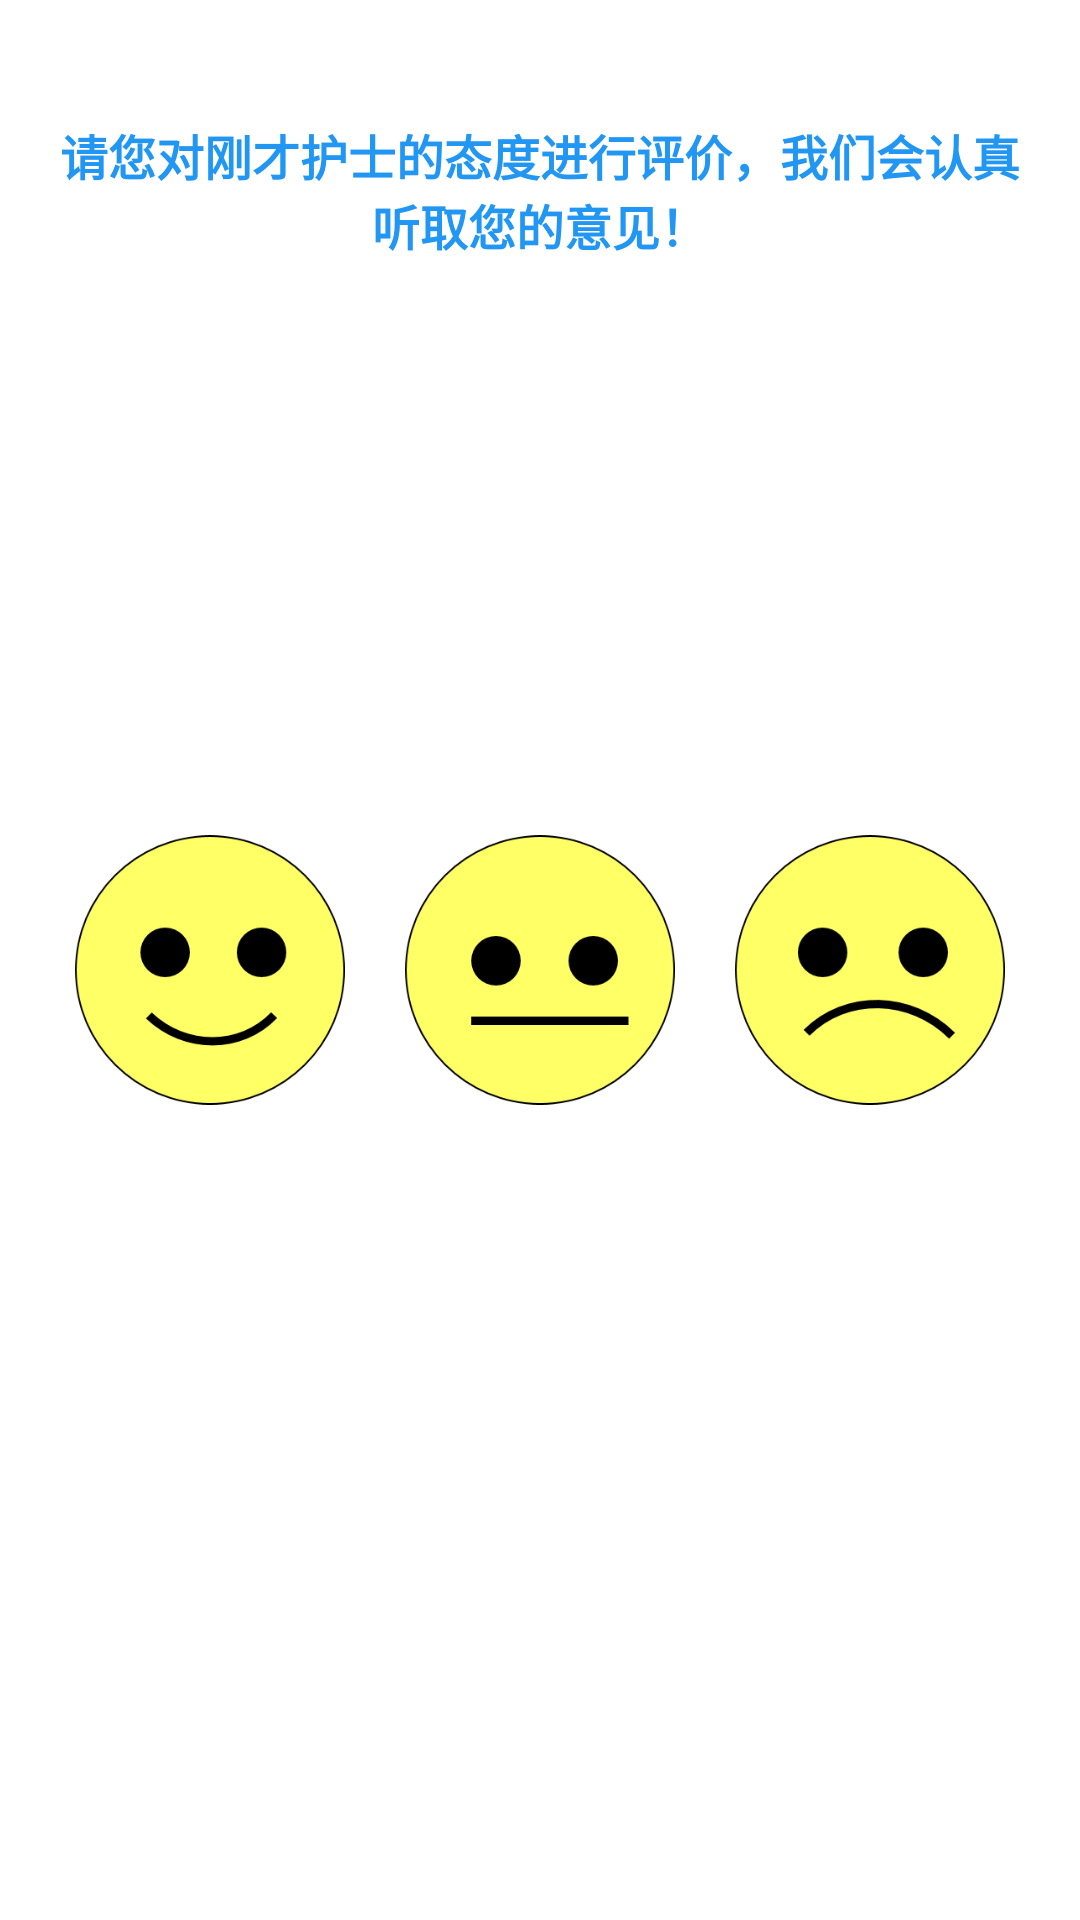

Where icons sit on this 1080px×1920px app screen, as (x1, y1, x2, y2):
good: (75, 835, 345, 1105)
soso: (405, 835, 675, 1105)
terrible: (735, 835, 1005, 1105)
